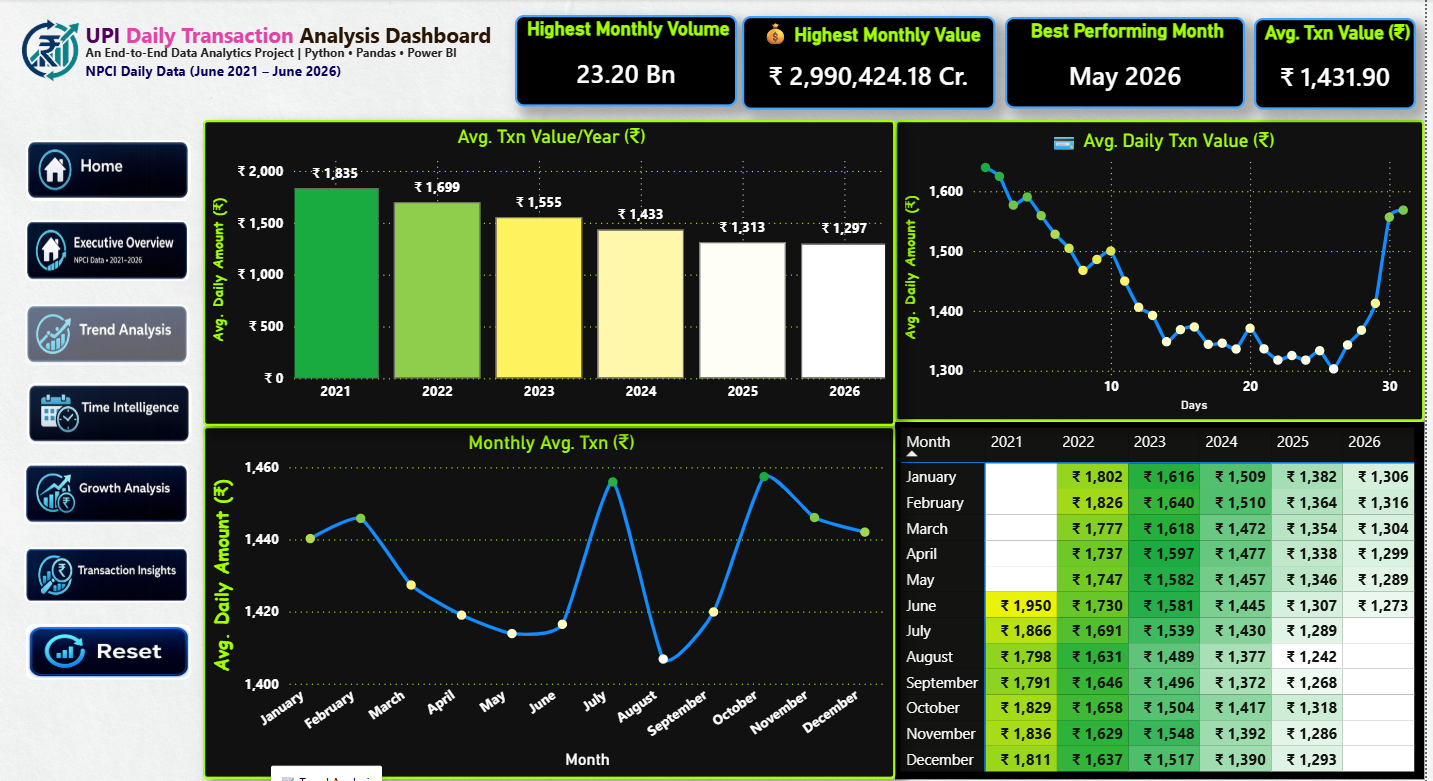

Layout of this report page (visuals, bound fields, positions):
{"tool":"powerbi","page":{"name":"📈 Trend Analysis","canvas":[1280,720],"ordinal":1},"visuals":[{"type":"group","id":"g1","title":"Group 1","box":[55.4,14.4,409.1,63.9],"z":0},{"type":"textbox","box":[55.4,14.4,409.1,38.1],"z":0,"group":"g1"},{"type":"image","box":[6.2,14.4,86,65.1],"z":1000},{"type":"textbox","box":[75.7,33.4,368,44.8],"z":1000,"group":"g1"},{"type":"actionButton","box":[27,198.2,147.5,55],"z":2000},{"type":"actionButton","box":[28.1,126.2,147.5,55],"z":3000},{"type":"actionButton","box":[26.5,273.5,147.5,55],"z":4000},{"type":"actionButton","box":[28.6,343.5,147.5,55],"z":5000},{"type":"actionButton","box":[26.1,490.4,147.5,50],"z":6000},{"type":"actionButton","box":[28.1,559.4,147.5,50],"z":7000},{"type":"actionButton","box":[25.7,415.4,148.1,55],"z":8000},{"type":"cardVisual","title":"Highest Monthly Volume ","fields":{"Data":["UPI_Daily_Statistics_Clean.Highest Monthly Volume Bn"]},"box":[465.5,14,199.2,81.9],"z":10000},{"type":"cardVisual","title":"💰 Highest Monthly Value ","fields":{"Data":["UPI_Daily_Statistics_Clean.Highest Monthly Value"]},"box":[669.2,14.8,226.9,83.8],"z":11000},{"type":"cardVisual","title":"Best Performing Month ","fields":{"Data":["UPI_Daily_Statistics_Clean.Best Performing Month"]},"box":[904.6,15.9,215.3,81.7],"z":12000},{"type":"pivotTable","fields":{"Values":["UPI_Daily_Statistics_Clean.Avg Amount per Transaction (₹)"],"Columns":["UPI_Daily_Statistics_Clean.Date.Variation.Date Hierarchy.Year"],"Rows":["UPI_Daily_Statistics_Clean.Date.Variation.Date Hierarchy.Month"]},"box":[805.8,378.5,474.2,320],"z":13000},{"type":"lineChart","title":"💳 Avg. Daily Txn Value (₹)","fields":{"Y":["UPI_Daily_Statistics_Clean.Avg Amount per Transaction (₹)"],"Category":["UPI_Daily_Statistics_Clean.Date.Variation.Date Hierarchy.Day"]},"box":[805.8,108.4,474.2,270],"z":14000},{"type":"stackedAreaChart","title":"Monthly Avg. Txn (₹)","fields":{"Category":["UPI_Daily_Statistics_Clean.Date.Variation.Date Hierarchy.Month"],"Y":["UPI_Daily_Statistics_Clean.Avg Amount per Transaction (₹)"]},"box":[186,382.7,619.8,315.7],"z":15000},{"type":"columnChart","title":"Avg. Txn Value/Year (₹)","fields":{"Y":["UPI_Daily_Statistics_Clean.Avg Amount per Transaction (₹)"],"Category":["UPI_Daily_Statistics_Clean.Date.Variation.Date Hierarchy.Year"]},"box":[186,108.4,619.8,274.3],"z":16000},{"type":"cardVisual","title":"Avg. Txn Value (₹)","fields":{"Data":["UPI_Daily_Statistics_Clean.Avg Amount per Transaction (₹)"]},"box":[1127.3,17,145.3,81.7],"z":17000}]}

Visuals, with their boxes in screenshot pixels (x1, y1, x2, y2):
"Group 1" group: locate(58, 16, 511, 87)
textbox: locate(58, 16, 511, 58)
image: locate(3, 16, 98, 88)
textbox: locate(80, 37, 488, 87)
actionButton: locate(26, 220, 190, 280)
actionButton: locate(27, 140, 191, 201)
actionButton: locate(26, 303, 189, 364)
actionButton: locate(28, 380, 191, 441)
actionButton: locate(25, 543, 189, 599)
actionButton: locate(27, 620, 191, 675)
actionButton: locate(25, 460, 189, 521)
"Highest Monthly Volume " cardVisual: locate(512, 16, 732, 106)
"💰 Highest Monthly Value " cardVisual: locate(737, 16, 989, 109)
"Best Performing Month " cardVisual: locate(998, 18, 1237, 108)
pivotTable - UPI_Daily_Statistics_Clean.Avg Amount per Transaction (₹) x UPI_Daily_Statistics_Clean.Date.Variation.Date Hierarchy.Year: locate(889, 419, 1414, 774)
"💳 Avg. Daily Txn Value (₹)" lineChart: locate(889, 120, 1414, 419)
"Monthly Avg. Txn (₹)" stackedAreaChart: locate(202, 424, 889, 774)
"Avg. Txn Value/Year (₹)" columnChart: locate(202, 120, 889, 424)
"Avg. Txn Value (₹)" cardVisual: locate(1245, 19, 1406, 109)
